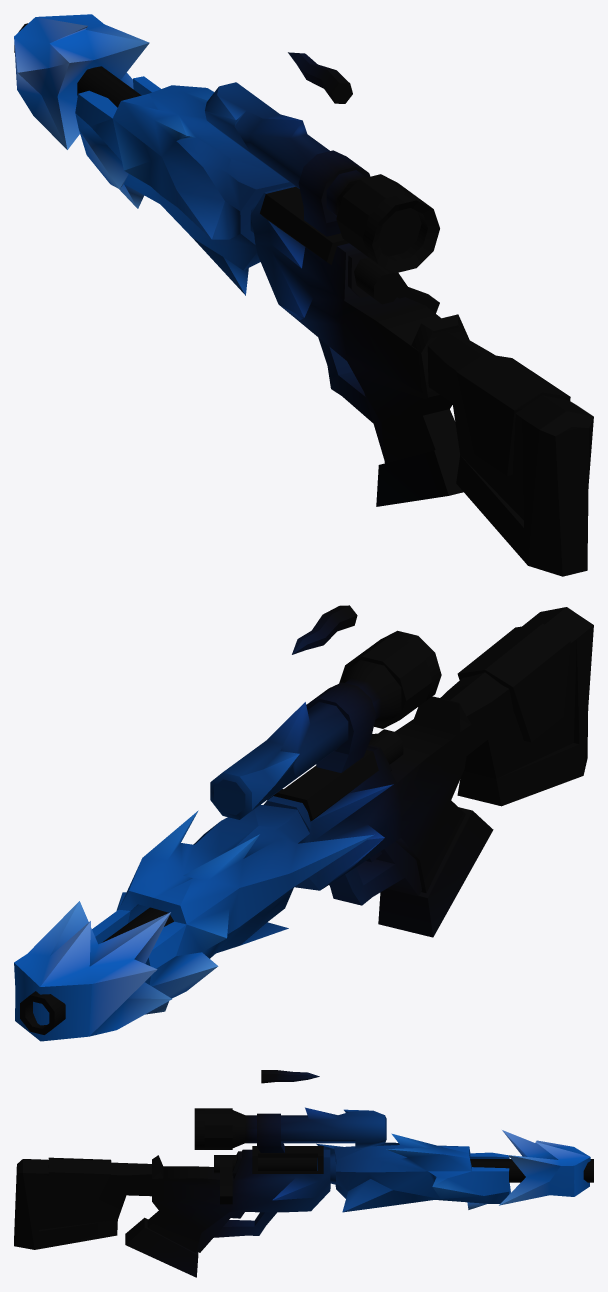
The model's file is ice_cs_babylon_base_col.glb.
3 renders of one model, top to bottom at view 1: azimuth 30°, elevation 25°; view 2: azimuth 150°, elevation 25°; view 3: azimuth 270°, elevation 25°, orthographic. The views are drawn at different scales.
Visible parts, largest first — view 1: ice_cs_babylon_base_col.001; view 2: ice_cs_babylon_base_col.001; view 3: ice_cs_babylon_base_col.001.
Part boxes in pixels (x1=…): ice_cs_babylon_base_col.001: x1=14, y1=14, x2=593, y2=576; ice_cs_babylon_base_col.001: x1=14, y1=605, x2=593, y2=1041; ice_cs_babylon_base_col.001: x1=14, y1=1070, x2=593, y2=1277.
Bounding box in the file's own units: 0.0859 × 0.2198 × 0.5766.
